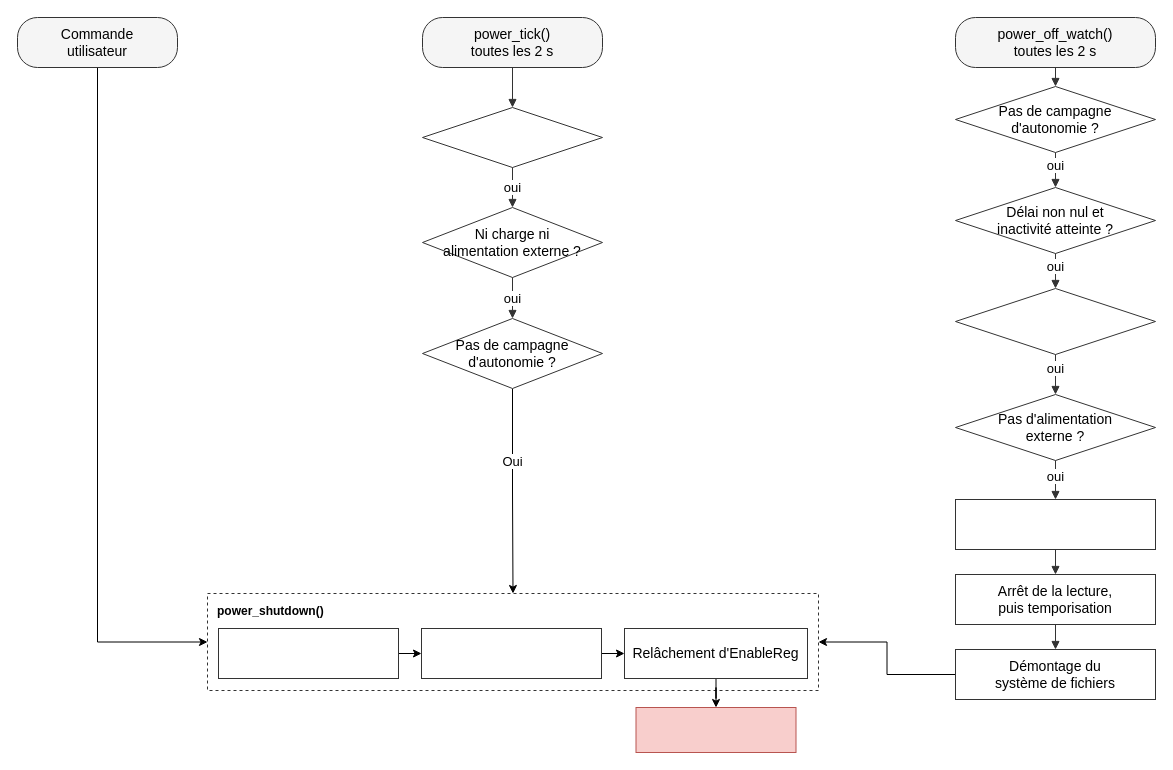
The diagram is 1173 pixels wide and 770 high, and some of its shapes have lost their labels. The centre of each missing label's shape, as x and y in pixels:
"Aucune lecture en cours ?" goes at (1055,321).
"Extinction de l'amplificateur puis du convertisseur" goes at (308,653).
"Rail 3,3 V coupé" goes at (715,729).
"Si en pause : sauvegarde du chemin et de la position" goes at (1055,524).
"SOC ≤ 5 % ?" goes at (512,137).
"Écriture du marqueur d'extinction volontaire (NVS)" goes at (511,653).
